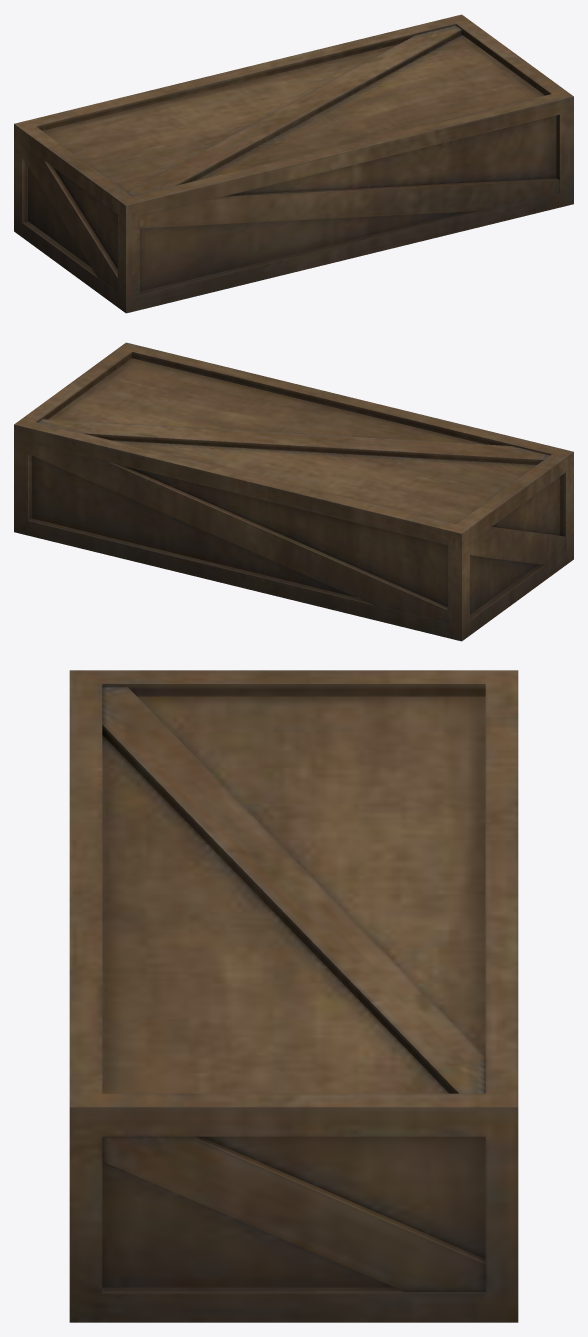
The model's file is SM_crate_03.glb.
The picture shows the model from 3 angles, top to bottom: view 1: azimuth 30°, elevation 25°; view 2: azimuth 150°, elevation 25°; view 3: azimuth 270°, elevation 25°; orthographic projection. The views are drawn at different scales.
Visible parts, largest first — view 1: SM_crate_03; view 2: SM_crate_03; view 3: SM_crate_03.
Boxes of the visible parts, x1=… form: SM_crate_03: x1=14, y1=14, x2=573, y2=313; SM_crate_03: x1=14, y1=342, x2=573, y2=641; SM_crate_03: x1=69, y1=670, x2=518, y2=1322.
Size of the model in its own units: 1.82 by 0.4181 by 0.7889.
Materials: 1 (1 with a texture image).
